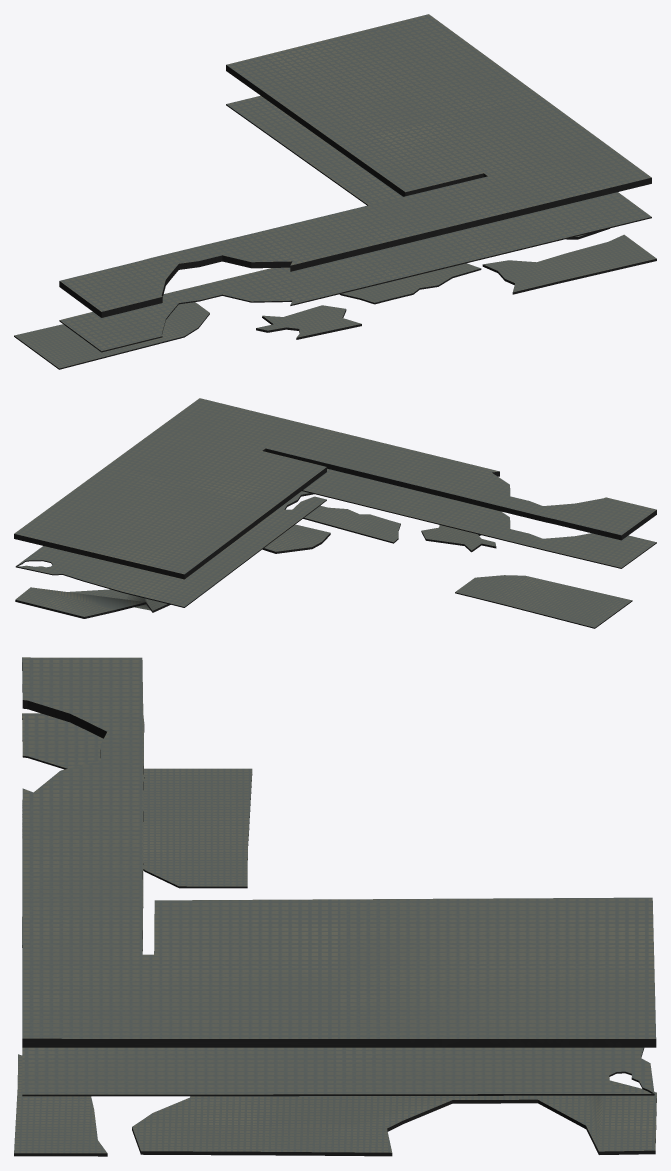
The model's file is Grounds.fbx.
The picture shows the model from 3 angles, top to bottom: view 1: azimuth 30°, elevation 25°; view 2: azimuth 150°, elevation 25°; view 3: azimuth 270°, elevation 25°; orthographic projection. The views are drawn at different scales.
Visible parts, largest first — view 1: FloorVariation2, FloorVariation3, FloorVariation7, FloorVariation6, FloorVariation5, FloorVariation4; view 2: FloorVariation2, FloorVariation3, FloorVariation6, FloorVariation1, FloorVariation5, FloorVariation4; view 3: FloorVariation2, FloorVariation3, FloorVariation1, FloorVariation6, FloorVariation7.
Part boxes in pixels (bbox=[...]): FloorVariation2: bbox=[59, 14, 651, 317]; FloorVariation3: bbox=[59, 95, 651, 352]; FloorVariation7: bbox=[482, 234, 656, 294]; FloorVariation6: bbox=[14, 302, 209, 369]; FloorVariation5: bbox=[340, 263, 481, 304]; FloorVariation4: bbox=[256, 305, 361, 339]; FloorVariation2: bbox=[14, 398, 656, 579]; FloorVariation3: bbox=[15, 468, 656, 607]; FloorVariation6: bbox=[455, 575, 632, 628]; FloorVariation1: bbox=[15, 524, 330, 618]; FloorVariation5: bbox=[303, 505, 400, 543]; FloorVariation4: bbox=[421, 525, 496, 552]; FloorVariation2: bbox=[22, 657, 656, 1047]; FloorVariation3: bbox=[22, 713, 654, 1096]; FloorVariation1: bbox=[132, 1080, 656, 1156]; FloorVariation6: bbox=[143, 768, 252, 888]; FloorVariation7: bbox=[14, 1054, 107, 1156].
Size of the model in its own units: 4768 by 673 by 3344.
